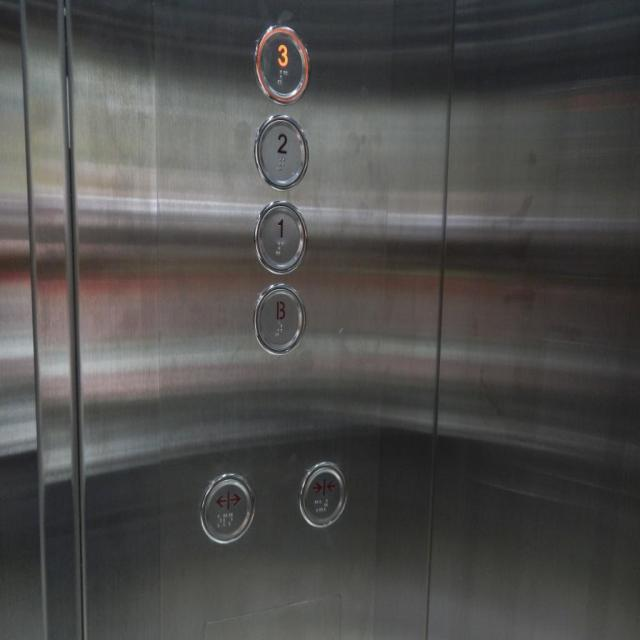1: (251, 192, 309, 275)
2: (254, 109, 311, 193)
3: (253, 22, 311, 105)
B: (252, 274, 306, 358)
close: (296, 455, 346, 528)
open: (201, 468, 253, 546)
